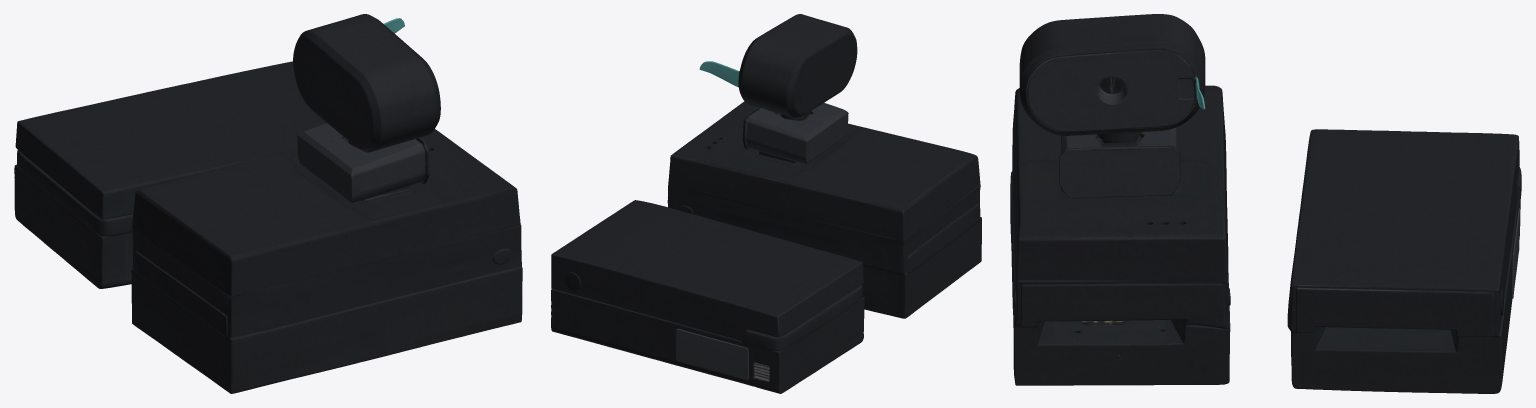
Rendered from sr_camera.glb.
3 views of the same model, side by side, from view 1: azimuth 30°, elevation 25°; view 2: azimuth 150°, elevation 25°; view 3: azimuth 270°, elevation 25° (orthographic). The views are drawn at different scales.
Parts seen in each view (by area): view 1: tripo_node_aa4a7990-e3dc-4d1e-b0c2-7a655adc75f6; view 2: tripo_node_aa4a7990-e3dc-4d1e-b0c2-7a655adc75f6; view 3: tripo_node_aa4a7990-e3dc-4d1e-b0c2-7a655adc75f6.
Boxes of the visible parts, box(x1,y1,x2,y2) form: tripo_node_aa4a7990-e3dc-4d1e-b0c2-7a655adc75f6: box(14, 14, 522, 393); tripo_node_aa4a7990-e3dc-4d1e-b0c2-7a655adc75f6: box(551, 14, 981, 393); tripo_node_aa4a7990-e3dc-4d1e-b0c2-7a655adc75f6: box(1010, 14, 1521, 393).
Size of the model in its own units: 0.7747 by 0.6542 by 1.
Materials: 1 (1 with a texture image).
